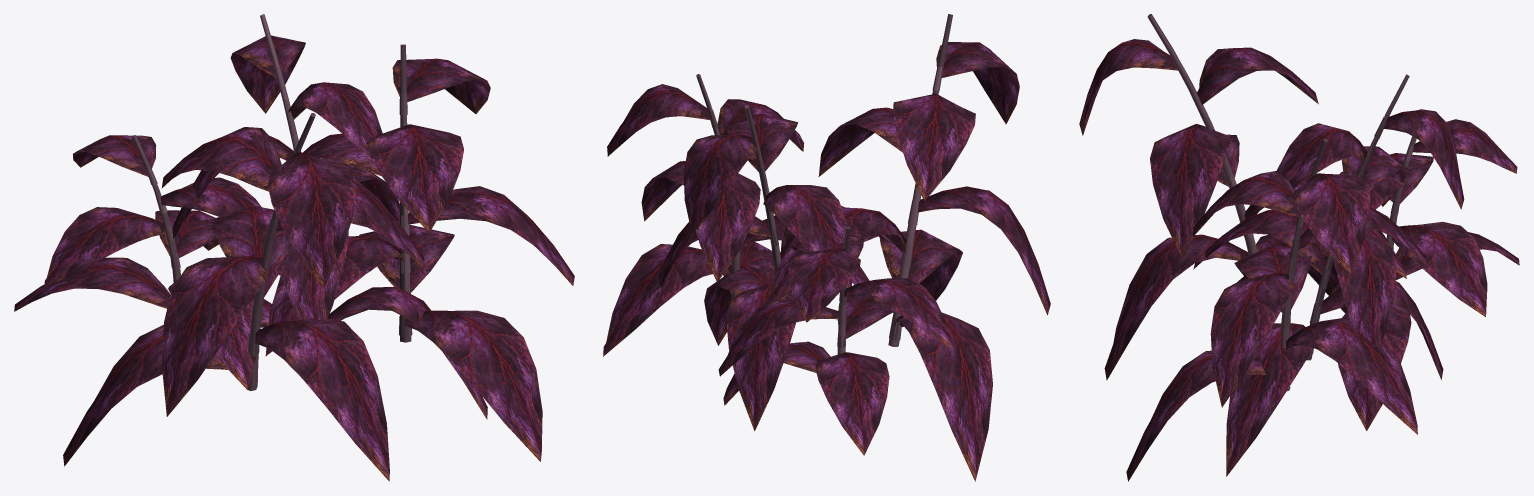
The model's file is broadgrass_11.glb.
3 renders of one model, left to right at view 1: azimuth 30°, elevation 25°; view 2: azimuth 150°, elevation 25°; view 3: azimuth 270°, elevation 25°, orthographic. The views are drawn at different scales.
Visible parts, largest first — view 1: export; view 2: export; view 3: export.
Part boxes in pixels (x1,y1,x2,y2): export: (14, 14, 574, 481); export: (603, 14, 1050, 481); export: (1079, 14, 1519, 481).
Size of the model in its own units: 1.09 by 0.9474 by 1.01.
Materials: 2 (2 with a texture image).
